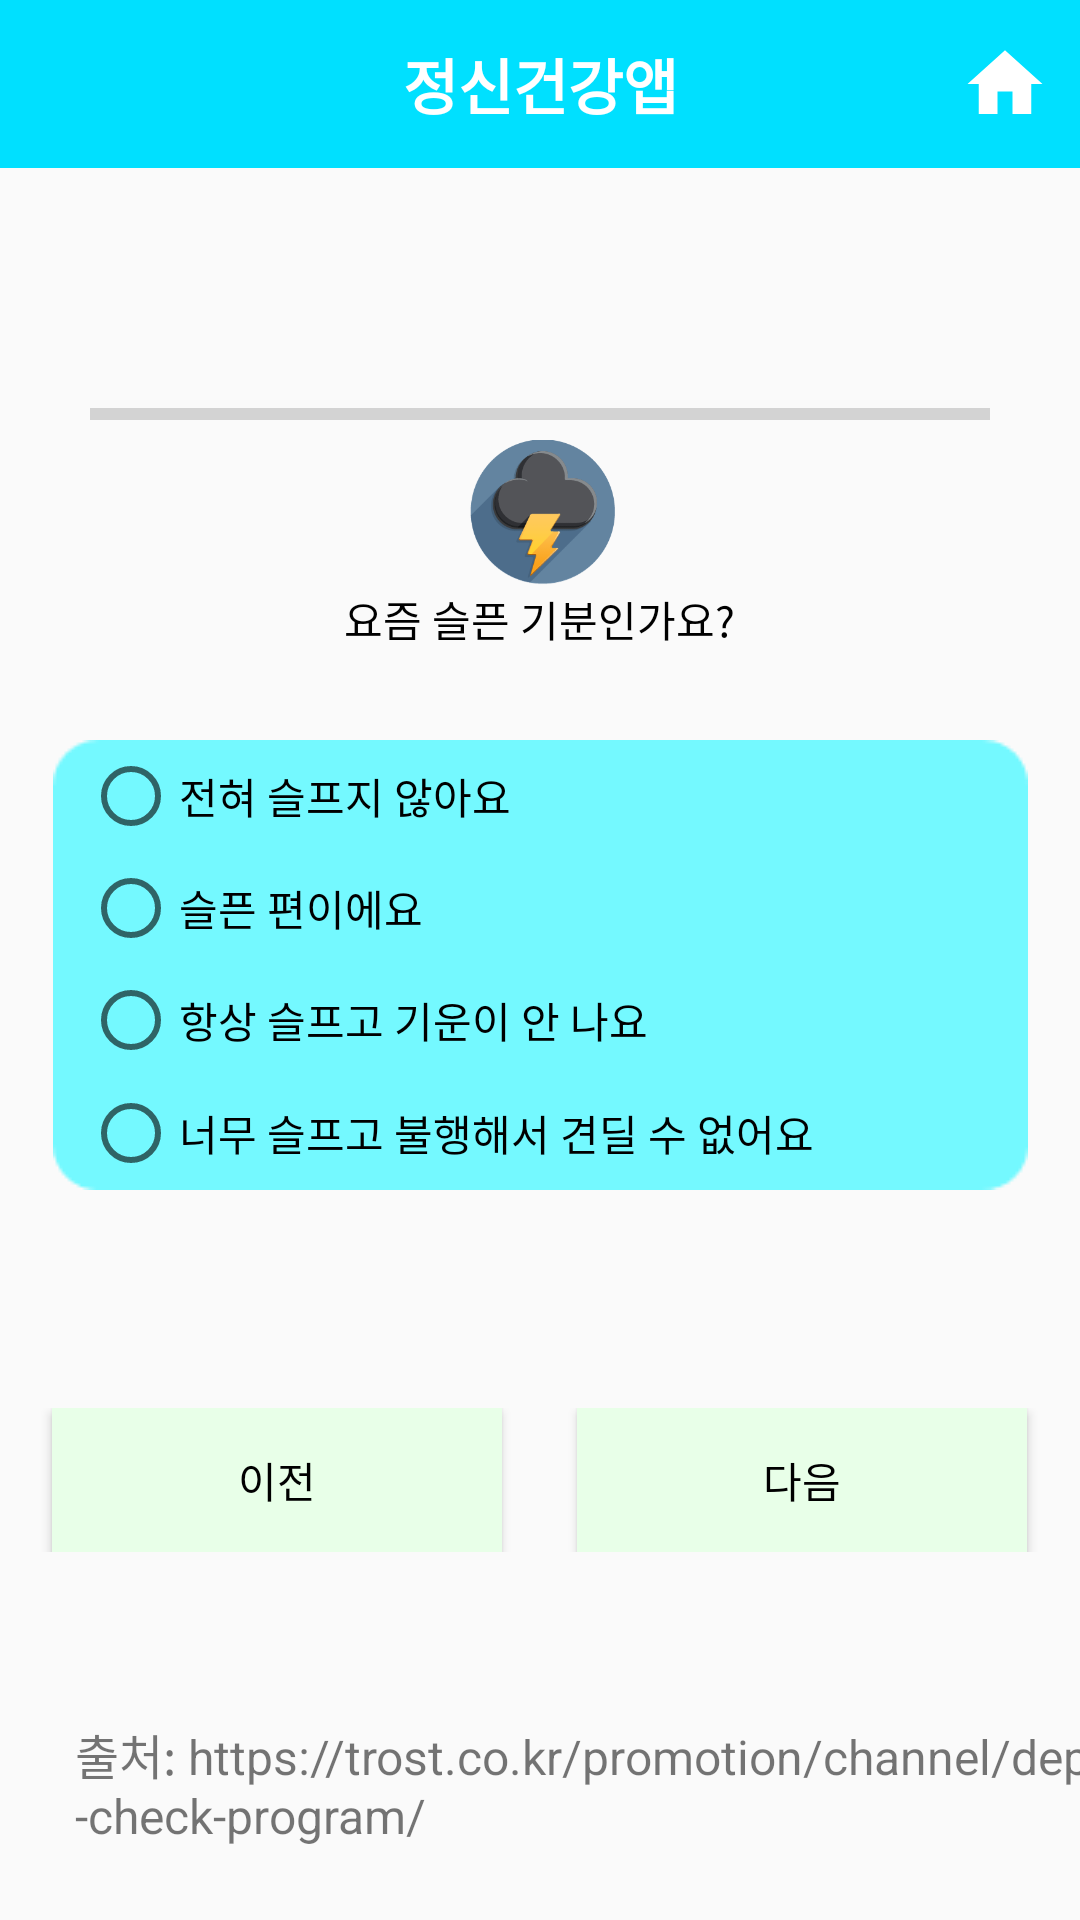

Where to tap for icons on this 1080 × 1920 app screen, as [x,y]:
home: [1005,82]
thunder: [542,512]
